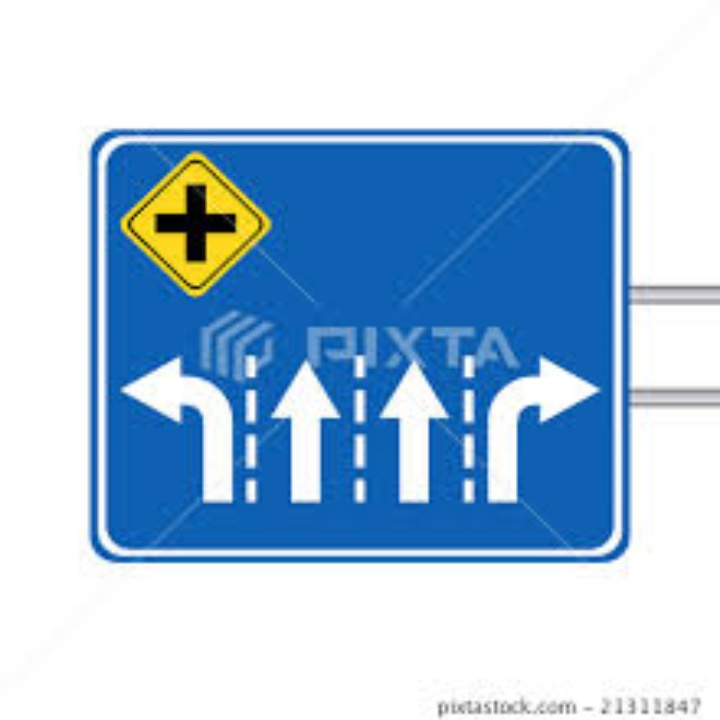inter: (151, 183, 240, 264)
left: (117, 353, 241, 508)
